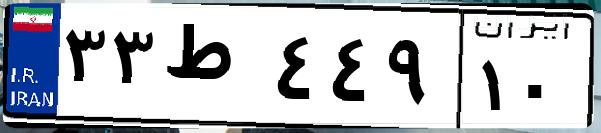0: (525, 38, 570, 115)
1: (475, 38, 525, 113)
3: (57, 26, 110, 100), (110, 28, 158, 98)
4: (270, 28, 330, 110), (330, 28, 385, 110)
9: (385, 28, 445, 110)
ط: (158, 20, 270, 120)
